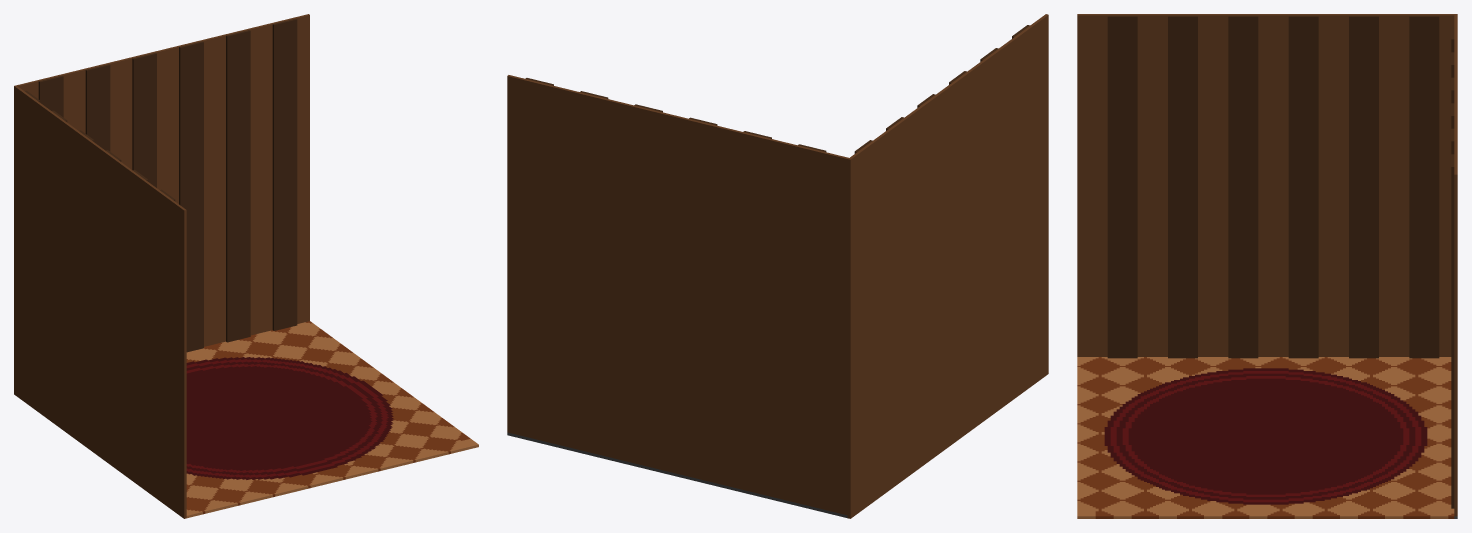
Rendered from fightScene.obj.
The picture shows the model from 3 angles, left to right: view 1: azimuth 30°, elevation 25°; view 2: azimuth 150°, elevation 25°; view 3: azimuth 270°, elevation 25°; orthographic projection. The views are drawn at different scales.
Size of the model in its own units: 12.6 by 12.6 by 12.6.
1 material, 1 textured.
